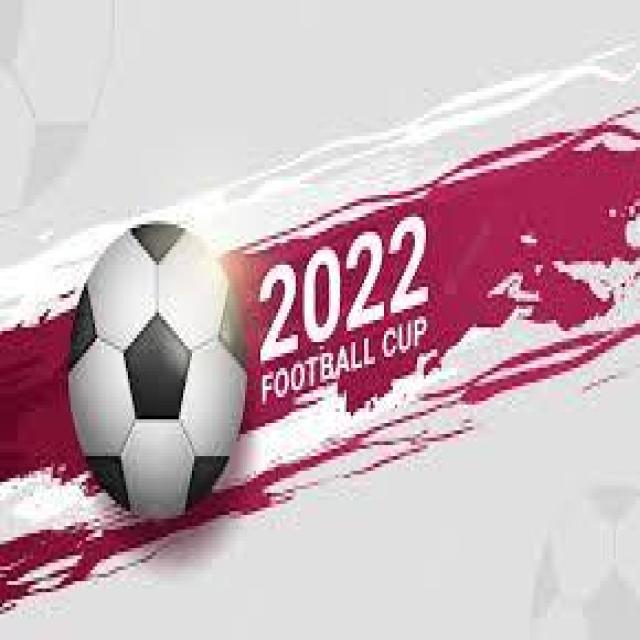ball: (70, 221, 246, 520)
